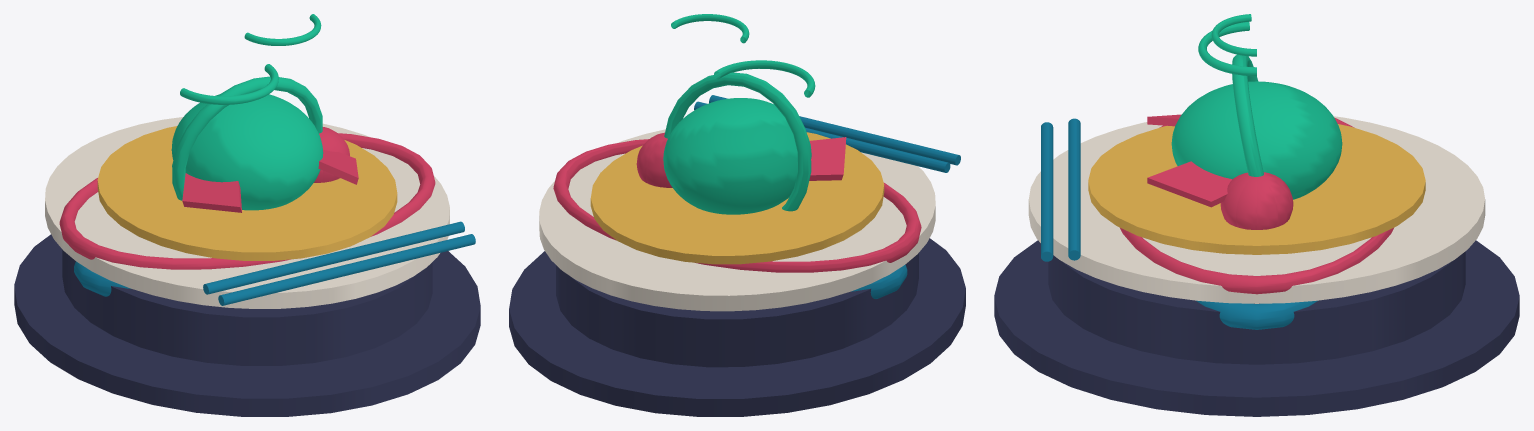
File: 0328_揭秘食物图鉴_朝天蕉.glb
The picture shows the model from 3 angles, left to right: view 1: azimuth 30°, elevation 25°; view 2: azimuth 150°, elevation 25°; view 3: azimuth 270°, elevation 25°; orthographic projection. The views are drawn at different scales.
Parts seen in each view (by area): view 1: card_0328; view 2: card_0328; view 3: card_0328.
Boxes of the visible parts, x1,y1,x2,y2 form: card_0328: [14, 14, 480, 416]; card_0328: [509, 14, 965, 416]; card_0328: [994, 14, 1519, 416].
Size of the model in its own units: 1.45 by 1 by 1.59.
